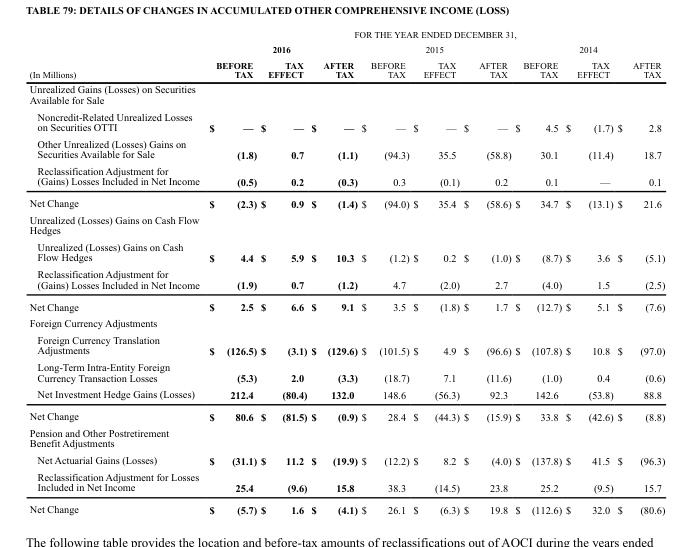table: (28, 28, 664, 515)
table column: (28, 28, 203, 515), (203, 28, 258, 515), (358, 28, 410, 515), (460, 28, 512, 515), (512, 28, 563, 515), (563, 28, 614, 515), (258, 28, 308, 515), (308, 28, 358, 515), (410, 28, 460, 515), (614, 28, 664, 515)
table column header: (28, 28, 664, 81)
table projected row header: (28, 211, 664, 238), (28, 424, 664, 451), (28, 81, 664, 107), (28, 314, 664, 331)
table row: (28, 162, 664, 192), (28, 265, 664, 295), (28, 468, 664, 498), (28, 107, 664, 135), (28, 135, 664, 162), (28, 211, 664, 238), (28, 238, 664, 265), (28, 331, 664, 358), (28, 358, 664, 385), (28, 424, 664, 451), (28, 81, 664, 107), (28, 56, 664, 81), (28, 385, 664, 405), (28, 192, 664, 211), (28, 295, 664, 314), (28, 405, 664, 424), (28, 314, 664, 331), (28, 451, 664, 468), (28, 498, 664, 515), (28, 41, 664, 56), (28, 28, 664, 41)
table spanning cell: (28, 28, 203, 81), (203, 28, 664, 41), (203, 41, 358, 56), (358, 41, 512, 56), (512, 41, 664, 56)
